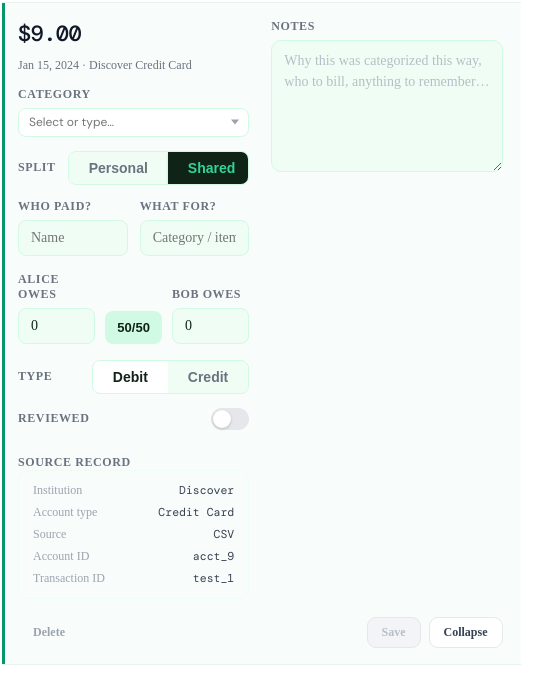
50/50 fills both owed fields with half the amount
The width and height of the screenshot is (538, 682).
Step 1. Click the button "50/50" → [134, 327], box x1=105 y1=311 x2=162 y2=344
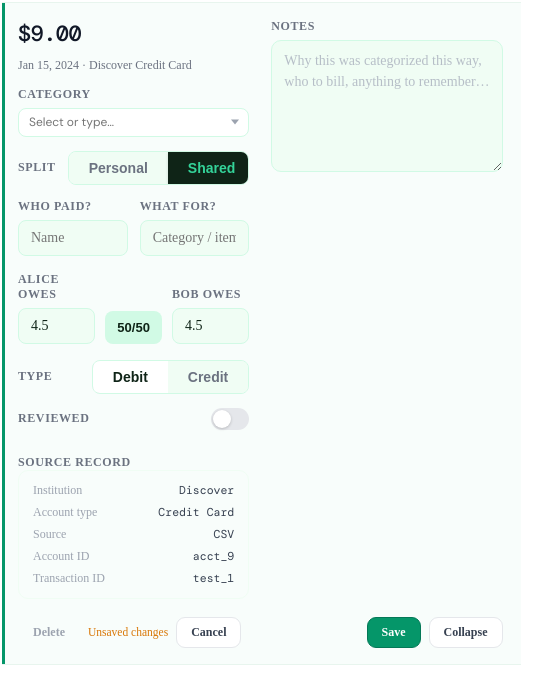
Result: the number field labelled "Alice owes" holds "4.5" at x1=18 y1=308 x2=95 y2=344
Result: the number field labelled "Bob owes" holds "4.5" at x1=172 y1=308 x2=249 y2=344
